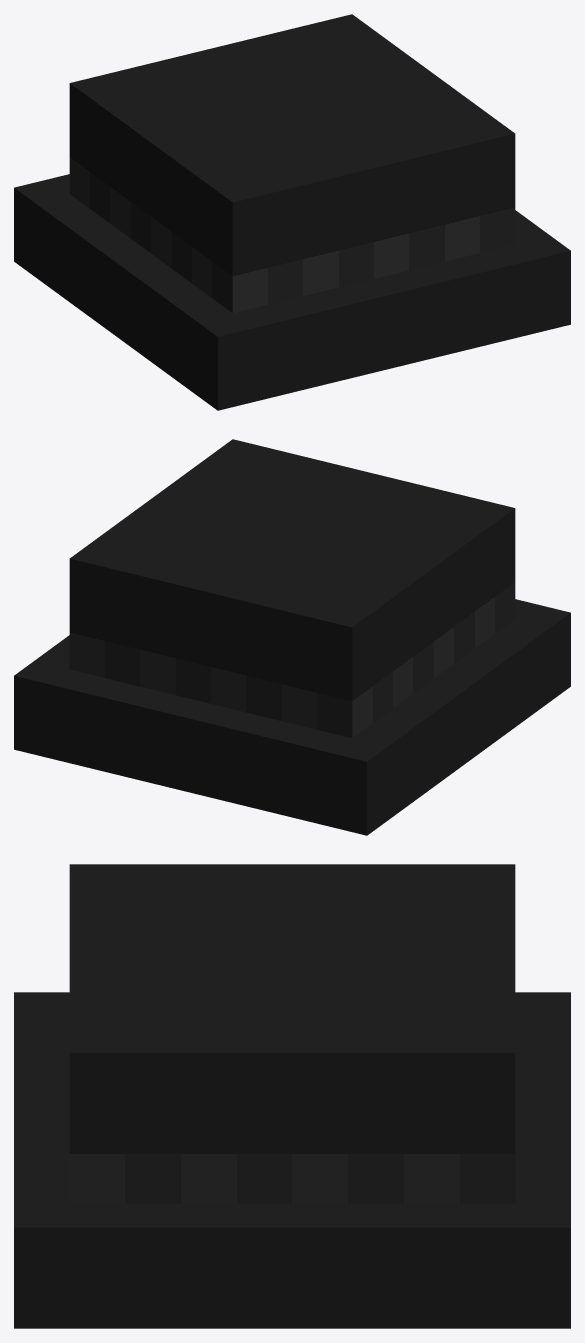
Rendered from fedora.gltf.
The picture shows the model from 3 angles, top to bottom: view 1: azimuth 30°, elevation 25°; view 2: azimuth 150°, elevation 25°; view 3: azimuth 270°, elevation 25°; orthographic projection. The views are drawn at different scales.
Visible parts, largest first — view 1: cube (×5); view 2: cube (×5); view 3: cube (×4).
Part boxes in pixels (box(x1,y1,x2,y2)): cube (×5): box(14, 14, 570, 410); cube (×5): box(14, 439, 570, 835); cube (×4): box(14, 864, 570, 1328).
Bounding box in the file's own units: 0.625 × 0.3125 × 0.625.
1 material, 1 textured.
